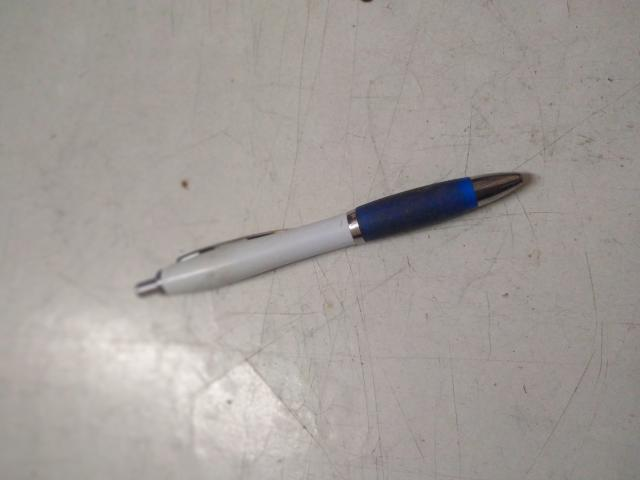PEN: (177, 131, 320, 480)
